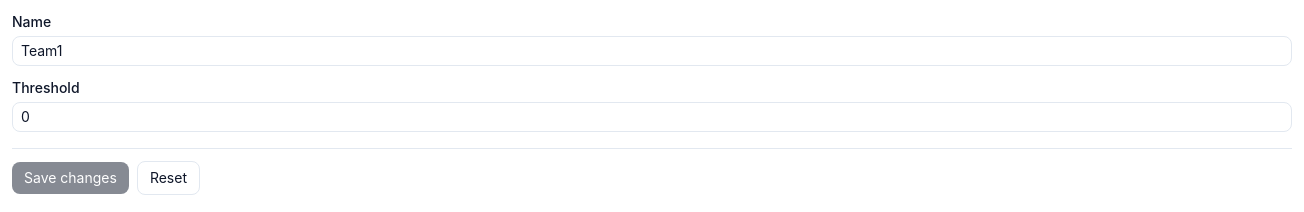
Test: <SettingsForm> › starts with Save disabled and shows Unsaved badge after edit
Expected: the button "Save changes" is disabled, [12,162,129,194]
Replace the text in the field labelled "Name" with "Team2": (652, 51) [12,36,1292,66]
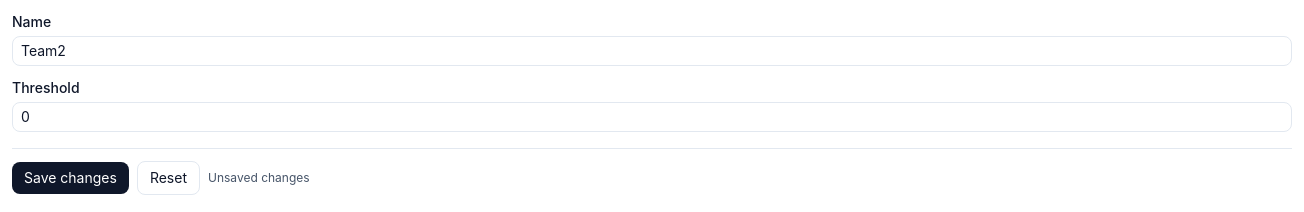
Expected: the button "Save changes" is enabled, [12,162,129,194]
Expected: the text "Unsaved changes" is shown, [208,170,310,186]
